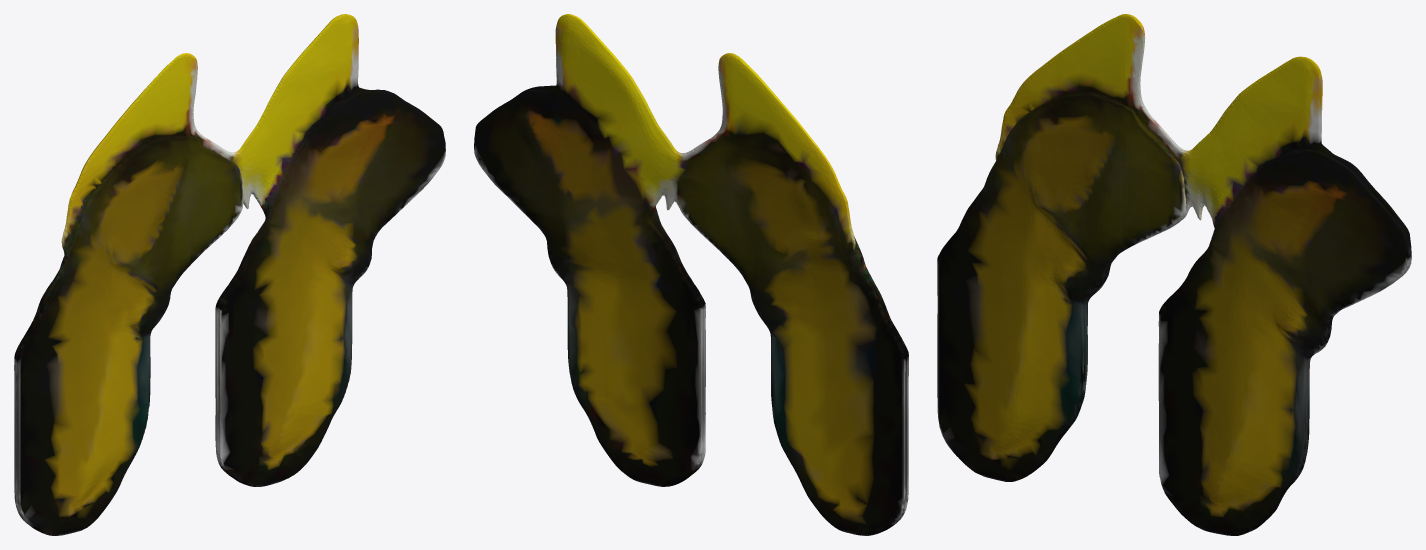
The model's file is speedboots.glb.
3 views of the same model, side by side, from view 1: azimuth 30°, elevation 25°; view 2: azimuth 150°, elevation 25°; view 3: azimuth 330°, elevation 25° (orthographic). The views are drawn at different scales.
Parts seen in each view (by area): view 1: geometry_0; view 2: geometry_0; view 3: geometry_0.
Part boxes in pixels (x1,y1,x2,y2): geometry_0: [14, 14, 445, 535]; geometry_0: [474, 14, 908, 535]; geometry_0: [937, 14, 1411, 535].
Size of the model in its own units: 0.5938 by 0.5946 by 0.0299.
